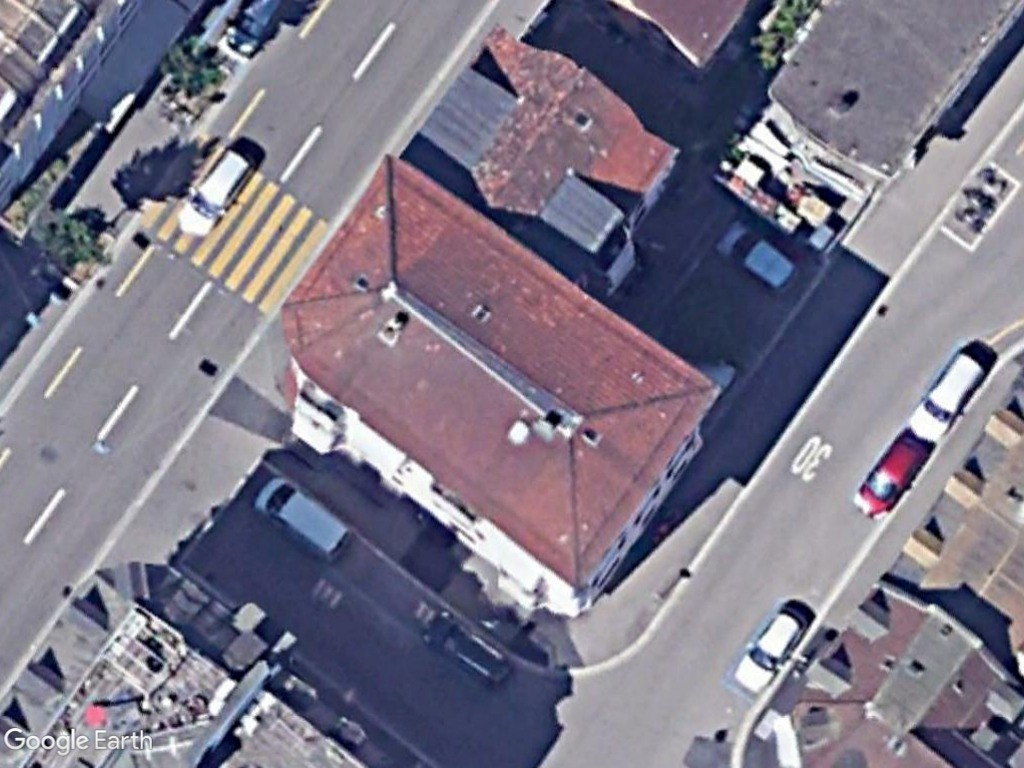car: (176, 139, 256, 240), (849, 429, 930, 525), (907, 349, 986, 444), (729, 605, 807, 699), (712, 224, 799, 293)
van: (249, 472, 355, 565)
